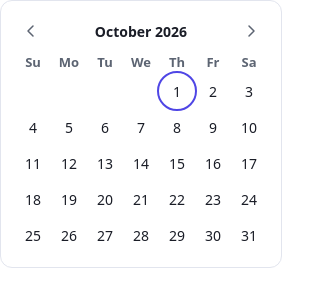
Test: Calendar › navigates to the next and previous months
Step 1. Click the button named "Next month" → [251, 31], box [237,17,265,45]
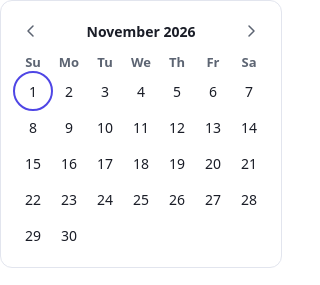
Check: the text "November 2026" is shown, box [86,22,195,40]
Step 2. Click the button named "Previous month" → [31, 31], box [17,17,45,45]
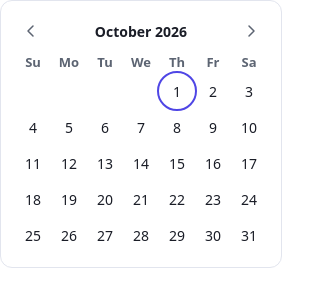
Check: the text "October 2026" is shown, box [95,22,187,40]
